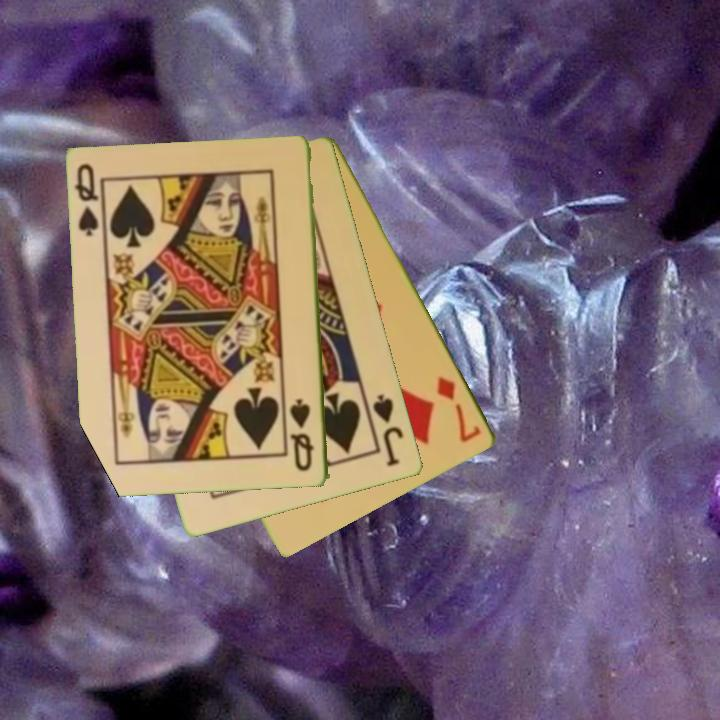7d: (433, 373, 485, 446)
Js: (370, 391, 407, 470)
Qs: (71, 161, 108, 240), (288, 396, 317, 475)
